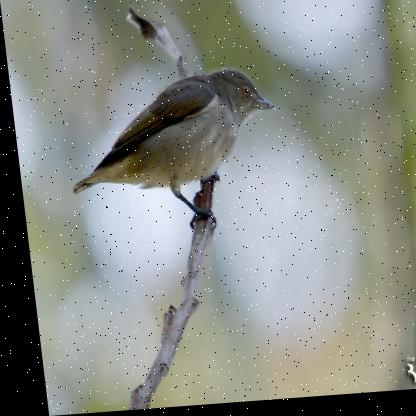Burung: (49, 62, 285, 242)
